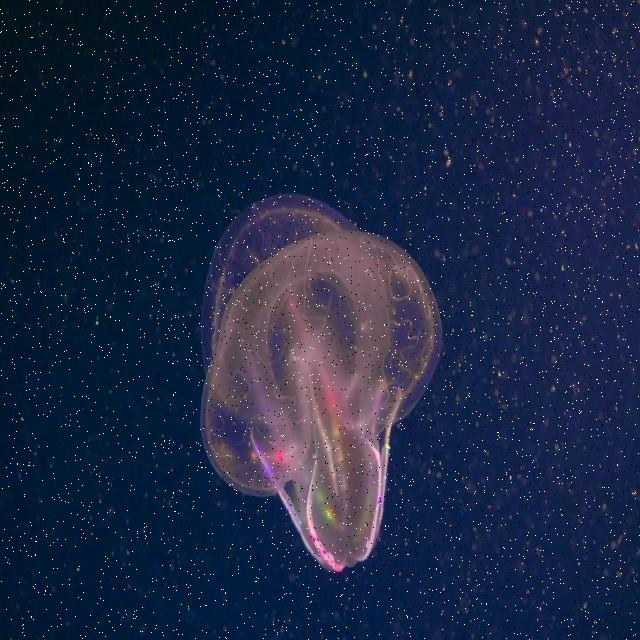reefs: (199, 192, 444, 572)
